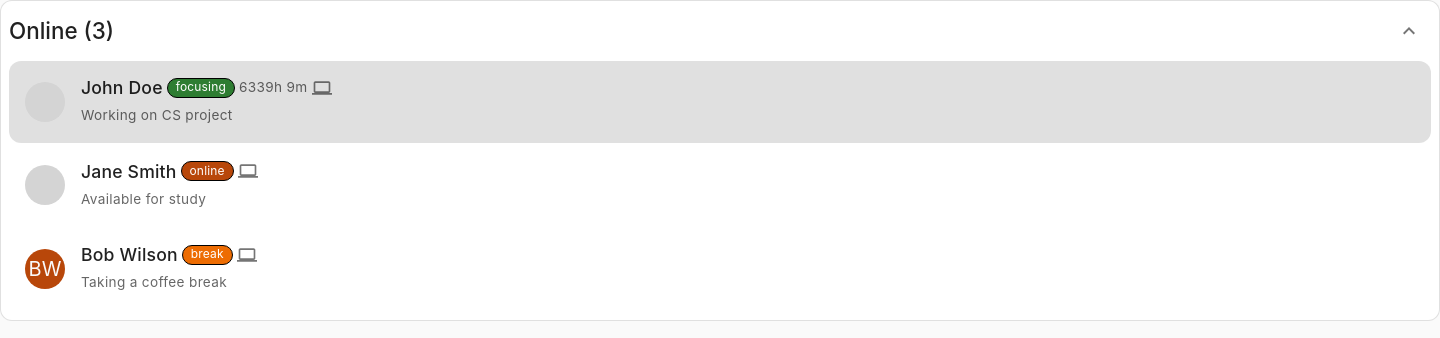
Test case: HivePresencePanel › User Interactions Tests › should hide profile preview on mouse leave
Hover over the list item with test id "presence-user-john_doe" at (720, 102), box x1=9 y1=61 x2=1431 y2=142
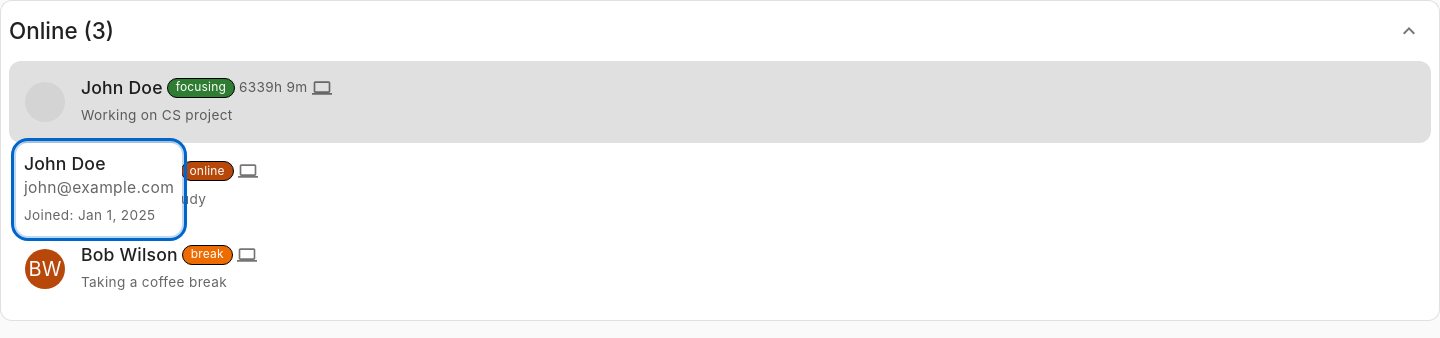
Expected: the element with test id "user-profile-preview" is shown, x1=16 y1=143 x2=182 y2=236
Move the pointer off the list item with test id "presence-user-john_doe", box x1=9 y1=61 x2=1431 y2=142
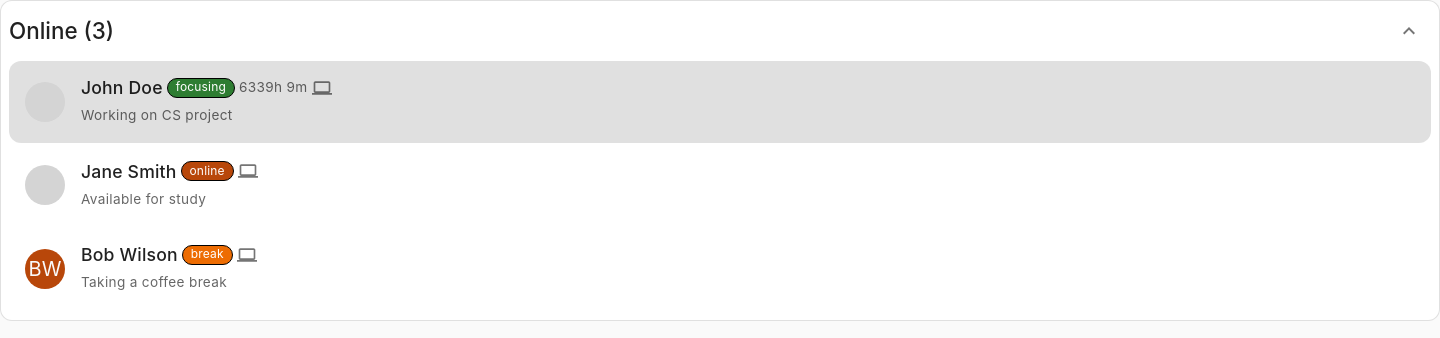
Expected: the element with test id "user-profile-preview" is gone
